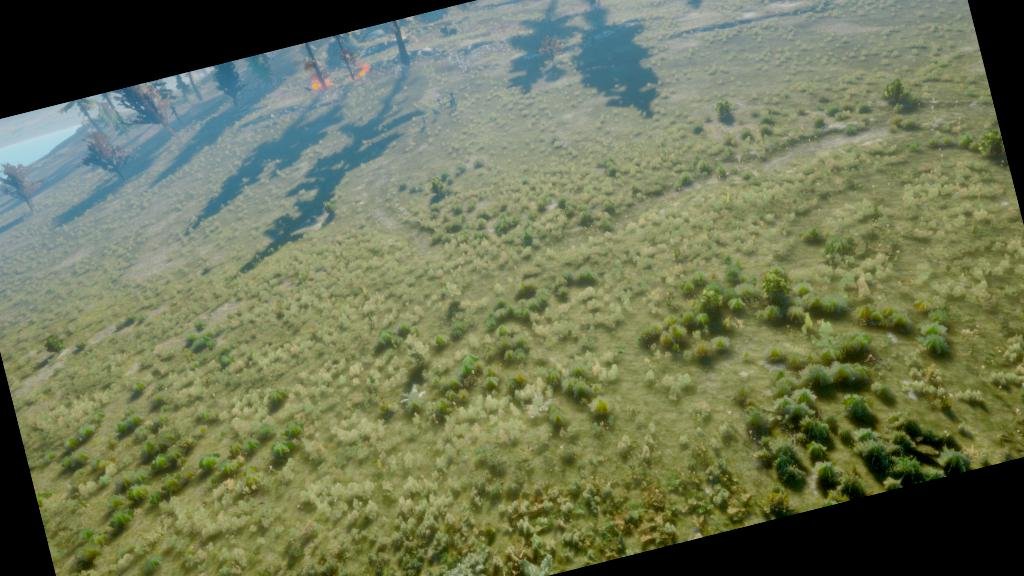Fire: (296, 58, 338, 96), (340, 54, 377, 86)
human: (444, 88, 462, 112), (428, 104, 441, 122), (418, 113, 428, 129), (436, 94, 446, 110)
